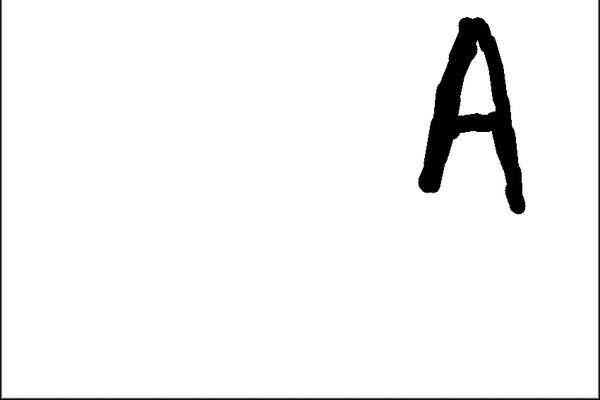A: (398, 8, 537, 220)
